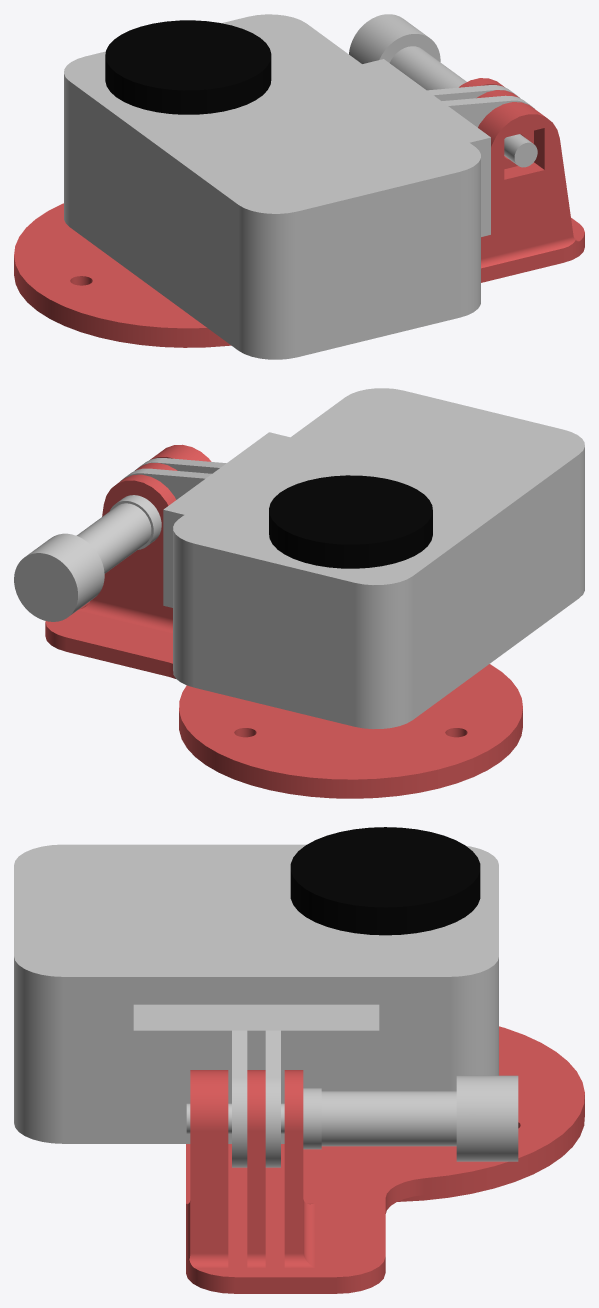
File: end_effector_osmo_camera.dae
The picture shows the model from 3 angles, top to bottom: view 1: azimuth 30°, elevation 25°; view 2: azimuth 150°, elevation 25°; view 3: azimuth 270°, elevation 25°; orthographic projection. The views are drawn at different scales.
Visible parts, largest first — view 1: Shape_IndexedFaceSet; view 2: Shape_IndexedFaceSet; view 3: Shape_IndexedFaceSet.
Boxes of the visible parts, bbox=[...] form: Shape_IndexedFaceSet: bbox=[14, 14, 584, 359]; Shape_IndexedFaceSet: bbox=[14, 388, 584, 798]; Shape_IndexedFaceSet: bbox=[14, 827, 584, 1293].
Bounding box in the file's own units: 0.1025 × 0.093 × 0.045.
